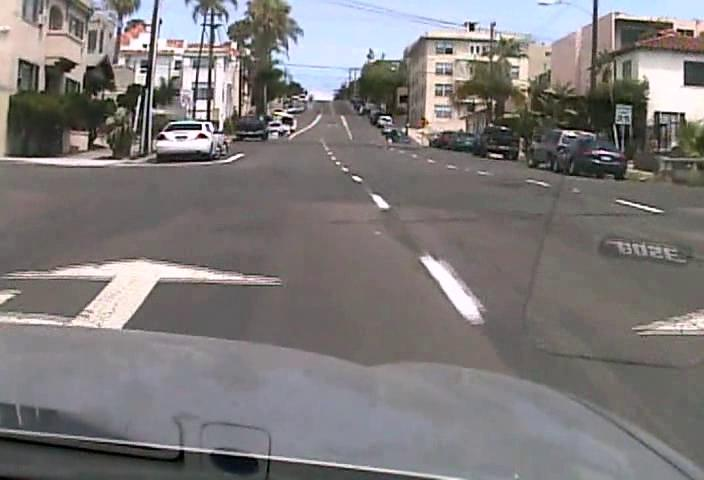speedLimit25: (613, 103, 632, 125)
